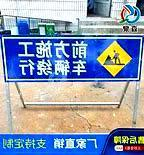sign: (1, 32, 143, 82)
